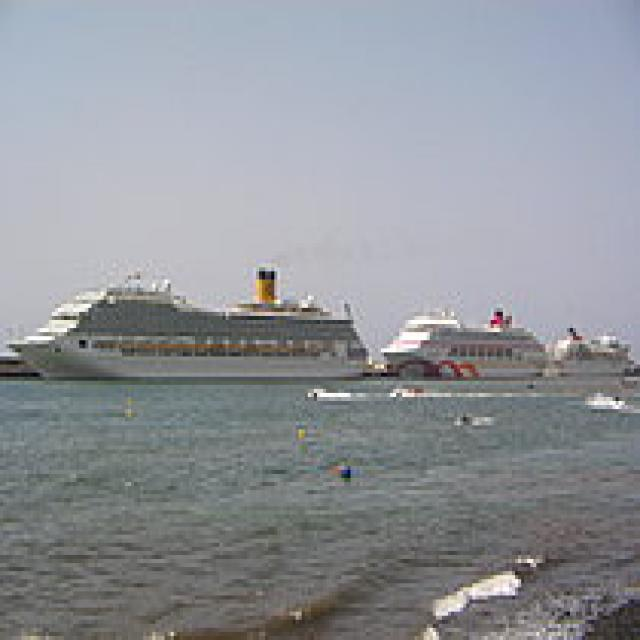Cruise: (3, 259, 369, 381), (372, 299, 545, 376), (533, 320, 631, 377)
